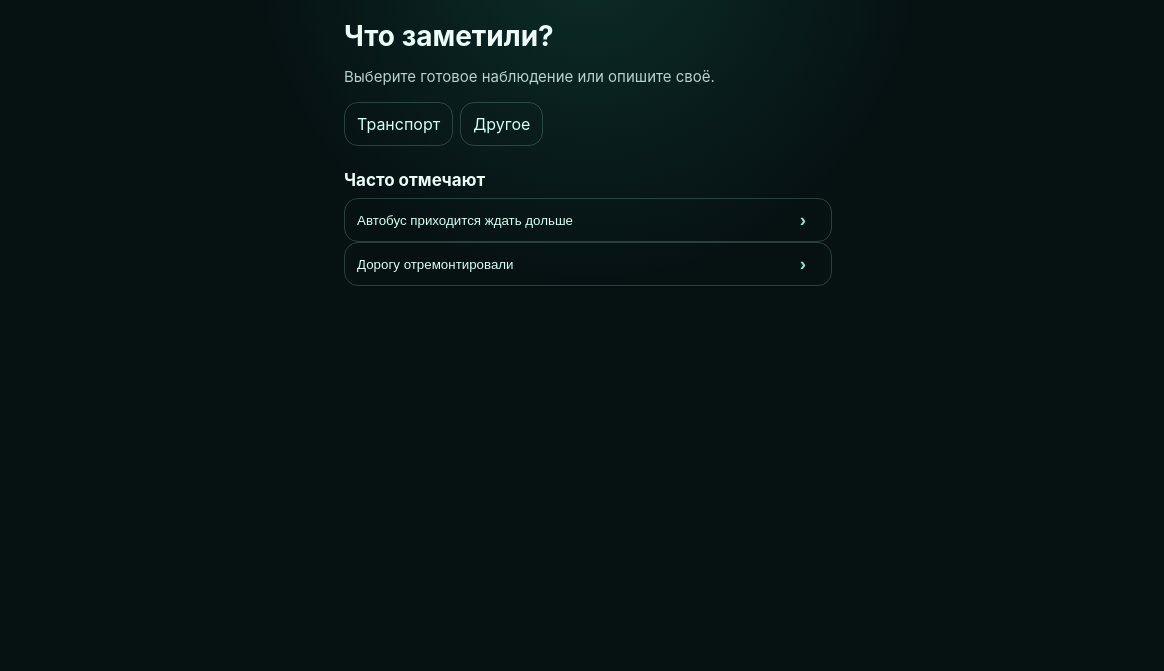
MobileDeltaCreateFlow observation controller › commits a manually entered landmark atomically into review and persistence
This screenshot has width=1164, height=671.
Click the button "Автобус приходится ждать дольше ›": (465, 220) [344, 198, 832, 242]
(page scrolled)
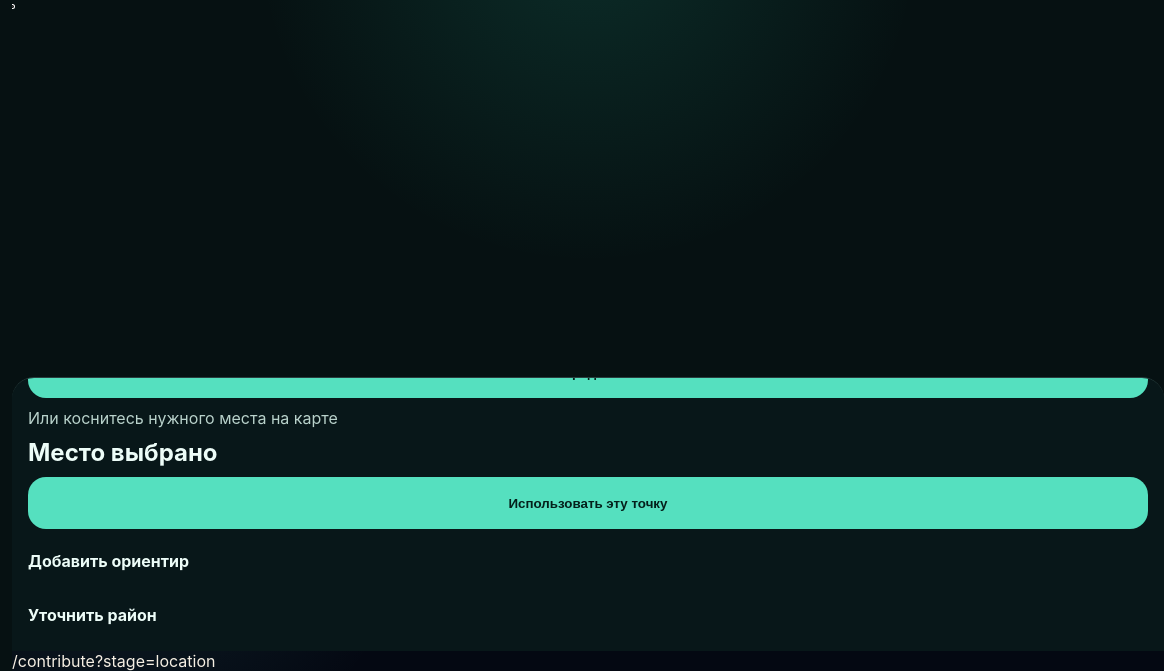
Click the heading "Добавить ориентир": (109, 561) [28, 551, 189, 571]
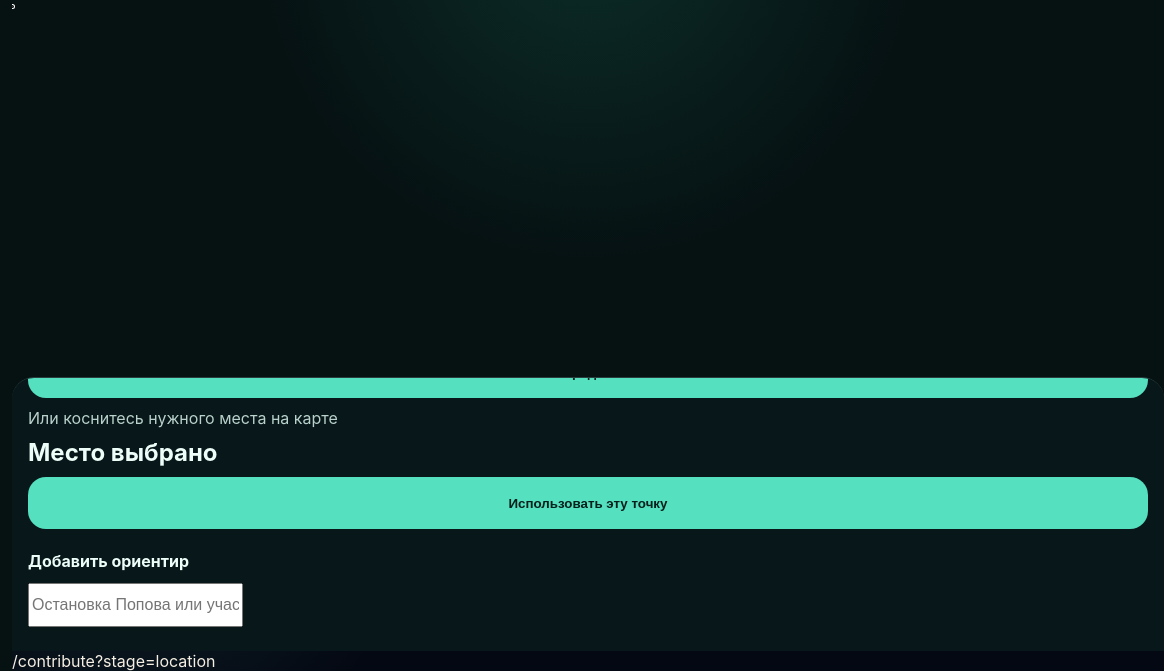
In the field with placeholder "Остановка Попова или участок улицы Ленина": (136, 605) [28, 583, 243, 627], type "Остановка Попова"
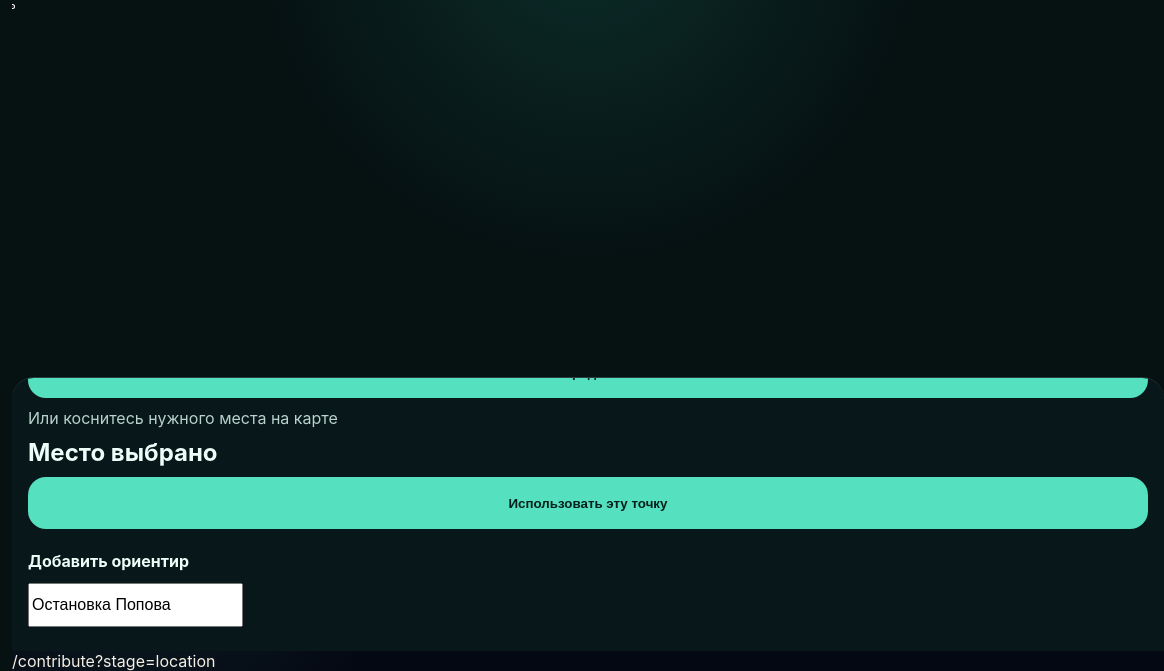
Click the button "Использовать эту точку": (588, 503) [28, 477, 1148, 529]
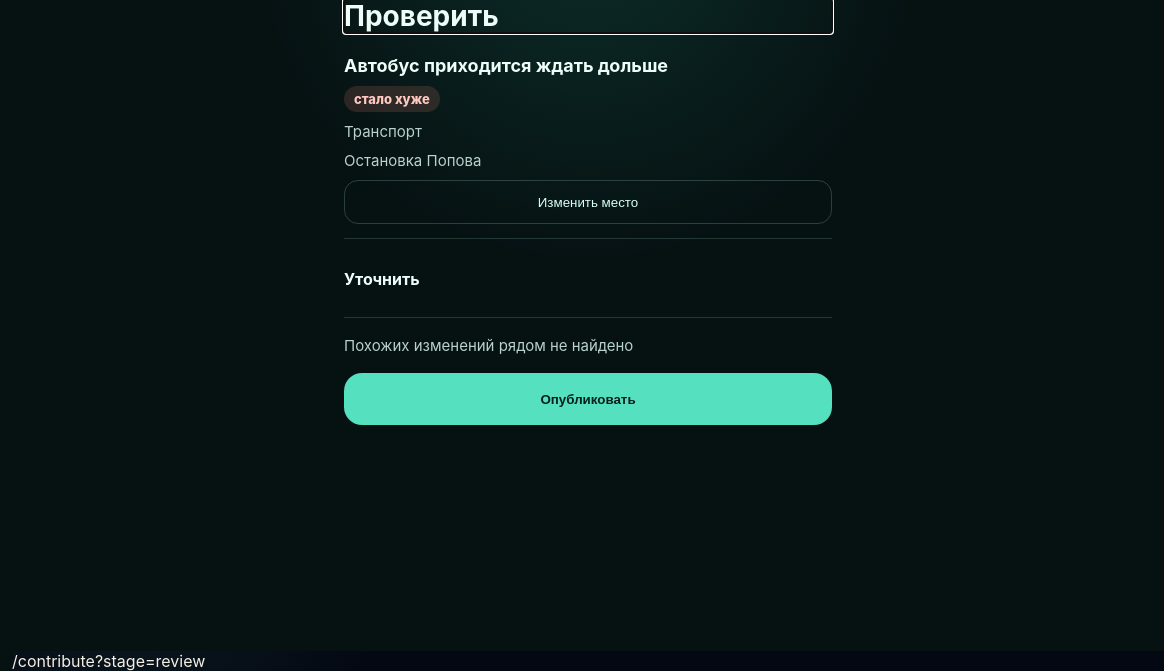
Check: the text "Остановка Попова" is shown, box [344, 151, 481, 170]
